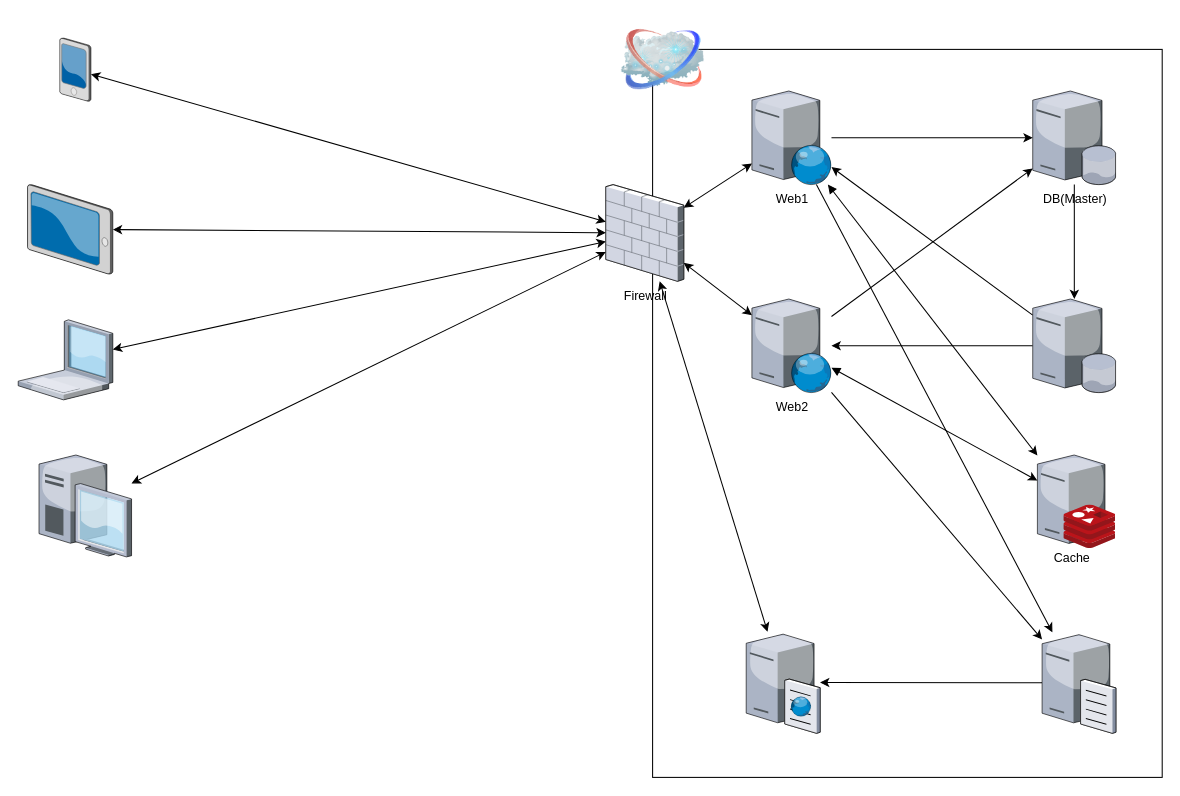
This 1180x796 diagram has some shape labels left out. The centre of each missing label's shape, as x and y in pixels:
CDN: pixel 783 682
DB(Slave): pixel 1073 345
File: pixel 1078 682
